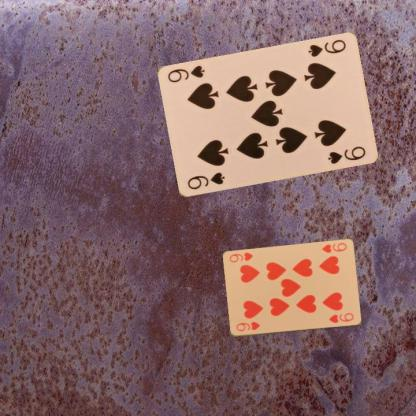9h: (319, 240, 348, 255), (234, 319, 261, 333)
9s: (305, 37, 347, 59), (183, 170, 226, 191)
